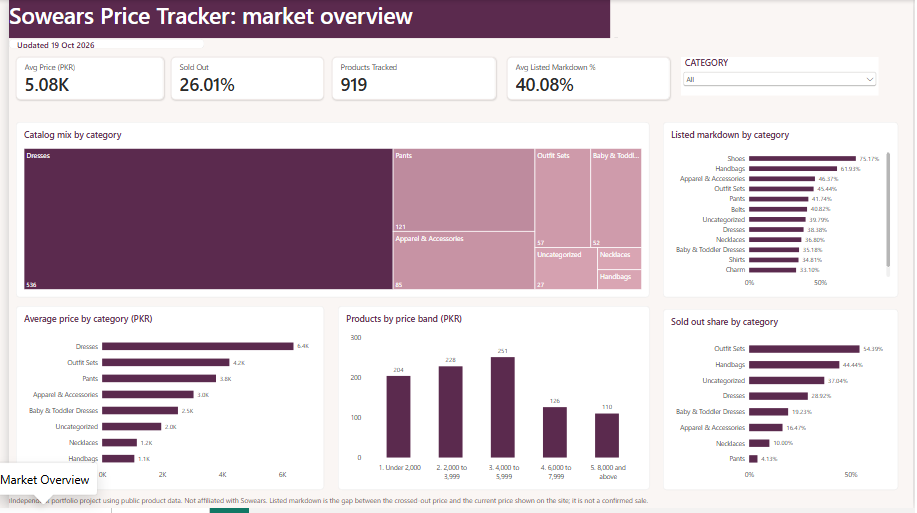

Layout of this report page (visuals, bound fields, positions):
{"tool":"powerbi","page":{"name":"Market Overview","canvas":[1920,1080],"ordinal":0},"visuals":[{"type":"shape","box":[0,0,1278.6,81.5],"z":0},{"type":"textbox","box":[0,1053.3,1465.2,25.7],"z":1000},{"type":"clusteredColumnChart","title":"Products by price band (PKR)","fields":{"Category":["price_history.Price Band"],"Y":["price_history.Products Tracked"]},"box":[699.4,650.6,663.3,391.2],"z":2000},{"type":"clusteredBarChart","title":"Average price by category (PKR)","fields":{"Category":["price_history.product_type"],"Y":["price_history.Avg Price (PKR)"]},"box":[14.9,650.6,654.8,391.2],"z":3000},{"type":"cardVisual","fields":{"Data":["price_history.Avg Listed Markdown %"]},"box":[1058.7,121.2,346.5,91.4],"z":4000},{"type":"cardVisual","fields":{"Data":["price_history.Avg Price (PKR)"]},"box":[14.9,121.2,314.6,91.4],"z":5000},{"type":"cardVisual","fields":{"Data":["price_history.Sold Out %"]},"box":[344.4,121.2,325.3,91.4],"z":6000},{"type":"cardVisual","fields":{"Data":["price_history.Products Tracked"]},"box":[686.7,121.2,348.7,91.4],"z":7000},{"type":"treemap","title":"Catalog mix by category","fields":{"Group":["price_history.product_type"],"Values":["price_history.Products Tracked"]},"box":[15,259.6,1347.2,373.3],"z":10000},{"type":"clusteredBarChart","title":"Sold out share by category","fields":{"Category":["price_history.product_type"],"Y":["price_history.Sold Out %"]},"box":[1390.4,656.9,499.6,384.8],"z":11000},{"type":"barChart","title":"Listed markdown by category","fields":{"Category":["price_history.product_type"],"Y":["price_history.Avg Listed Markdown %"]},"box":[1390.1,259.6,499.8,373.3],"z":12000},{"type":"slicer","fields":{"Values":["price_history.product_type"]},"box":[1428.8,121.5,419.9,81.9],"z":12250},{"type":"cardVisual","fields":{"Data":["price_history.Last Updated"]},"box":[0,82,415.3,20.5],"z":12500},{"type":"textbox","title":"Sowears Price Tracker: market overview","box":[0,0,1294.7,80.8],"z":13000}]}

Visuals, with their boxes on the page's 1920x1080 design canvas (x1, y1, x2, y2). These are canvas units, not pixel positions in the 917x513 screenshot, which may show the page scaled, cropped or inside an application window:
shape: l=0, t=0, r=1279, b=82
textbox: l=0, t=1053, r=1465, b=1079
"Products by price band (PKR)" clusteredColumnChart: l=699, t=651, r=1363, b=1042
"Average price by category (PKR)" clusteredBarChart: l=15, t=651, r=670, b=1042
cardVisual - price_history.Avg Listed Markdown %: l=1059, t=121, r=1405, b=213
cardVisual - price_history.Avg Price (PKR): l=15, t=121, r=330, b=213
cardVisual - price_history.Sold Out %: l=344, t=121, r=670, b=213
cardVisual - price_history.Products Tracked: l=687, t=121, r=1035, b=213
"Catalog mix by category" treemap: l=15, t=260, r=1362, b=633
"Sold out share by category" clusteredBarChart: l=1390, t=657, r=1890, b=1042
"Listed markdown by category" barChart: l=1390, t=260, r=1890, b=633
slicer - price_history.product_type: l=1429, t=122, r=1849, b=203
cardVisual - price_history.Last Updated: l=0, t=82, r=415, b=102
"Sowears Price Tracker: market overview" textbox: l=0, t=0, r=1295, b=81
